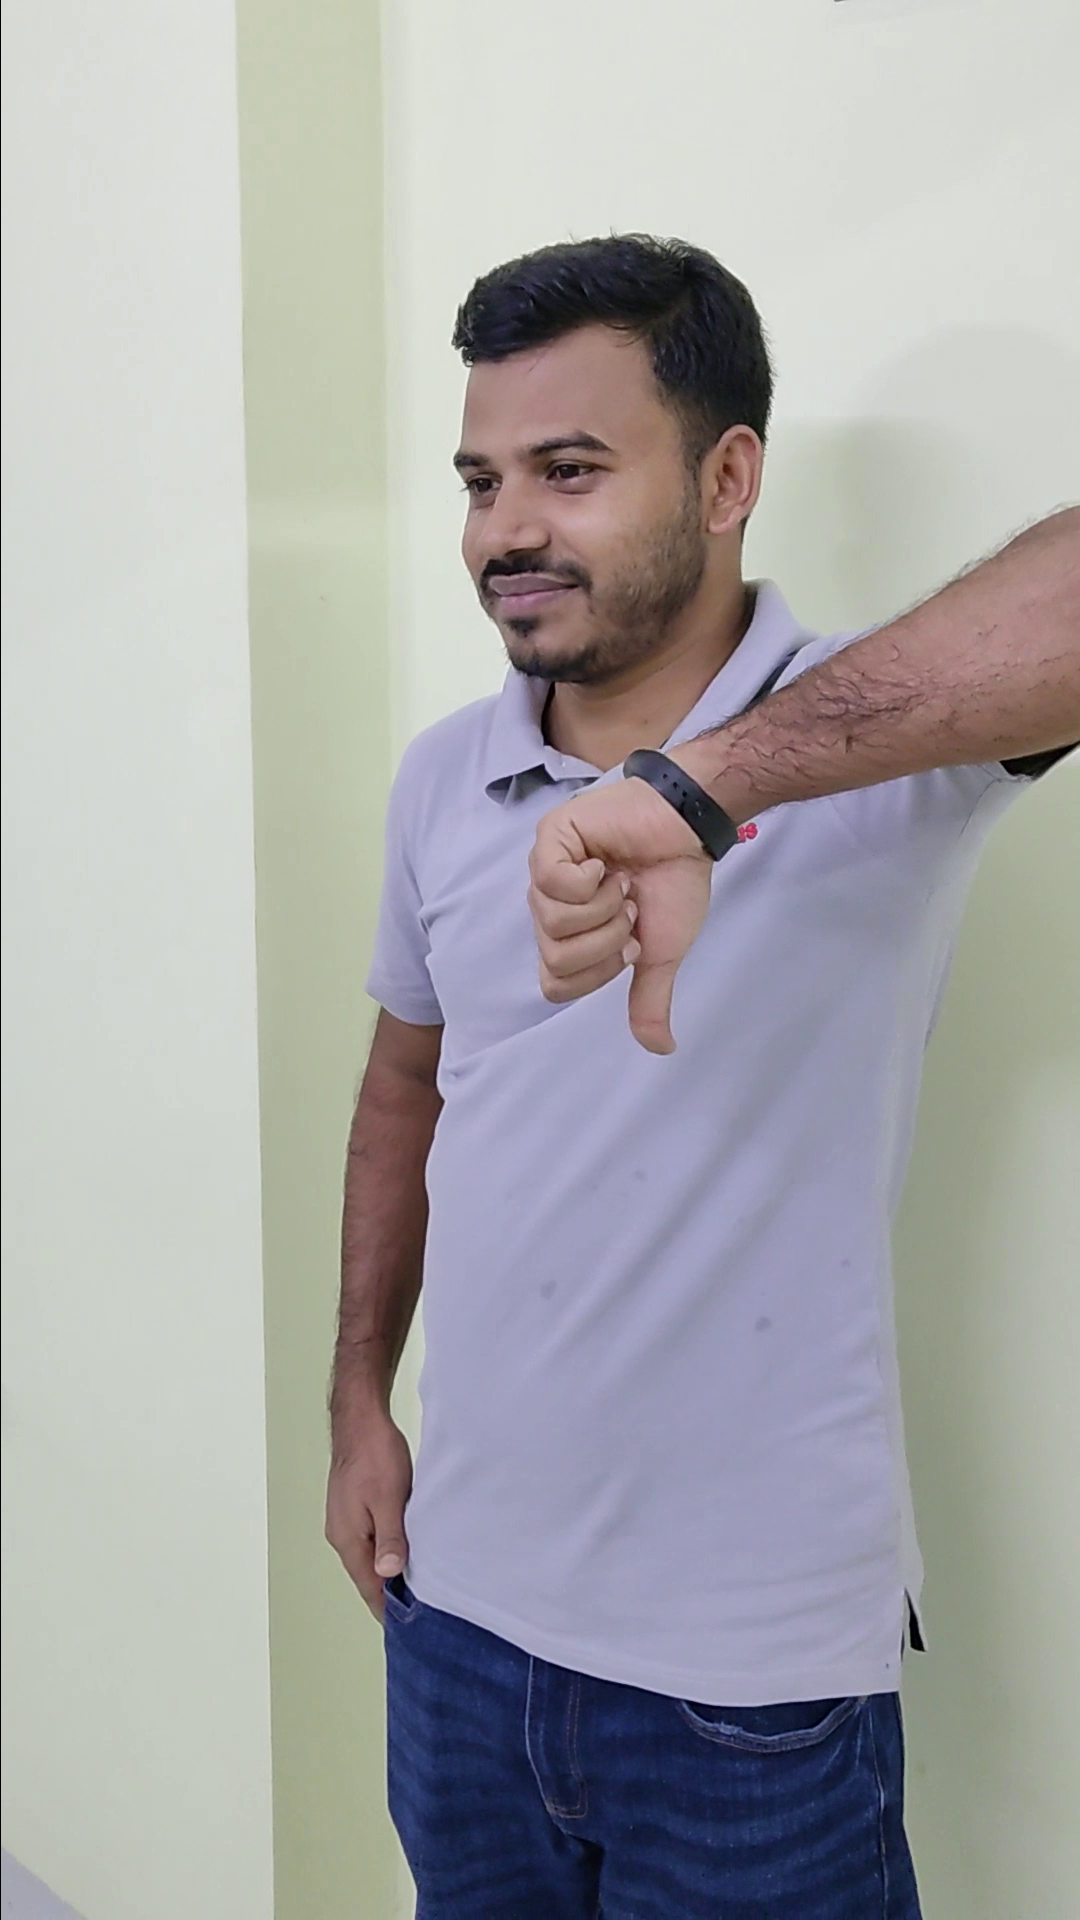Dislike: (493, 741, 723, 1067)
None: (287, 1352, 435, 1646)
